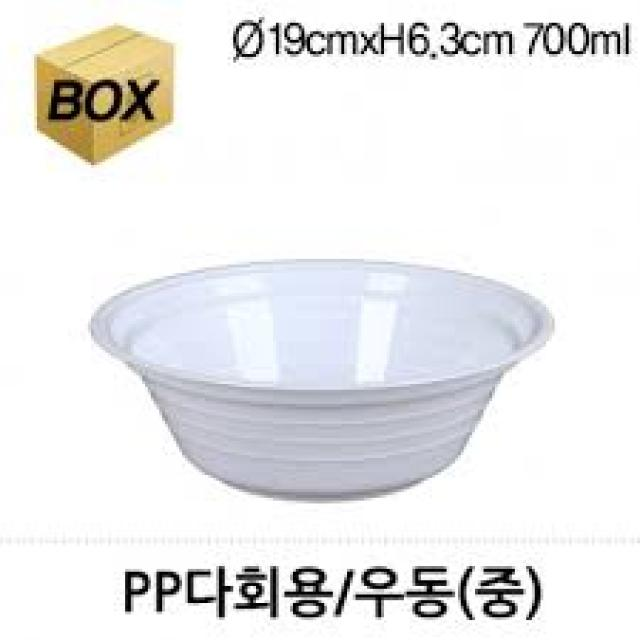disposable: (86, 240, 572, 521)
